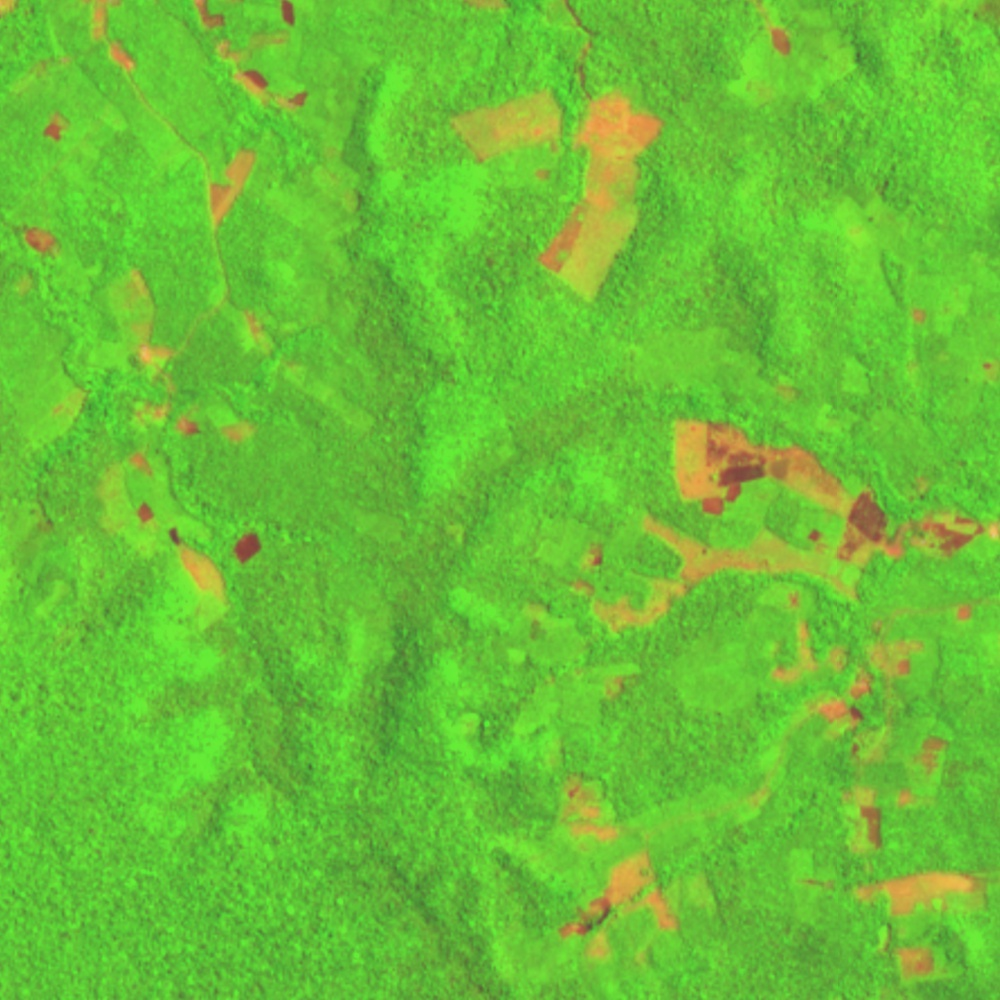legal: (519, 409, 1000, 637), (85, 394, 264, 617), (544, 765, 698, 962), (536, 90, 664, 309), (791, 871, 990, 986), (191, 1, 312, 113), (99, 265, 195, 404), (484, 660, 638, 725), (449, 85, 573, 164), (203, 141, 261, 232), (27, 376, 88, 462), (900, 727, 956, 808), (79, 1, 136, 78), (845, 786, 890, 856), (750, 1, 793, 64), (16, 220, 67, 266), (901, 297, 940, 340), (241, 308, 272, 353), (36, 110, 70, 146), (773, 378, 809, 412), (458, 1, 522, 13), (970, 354, 1000, 379)
